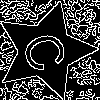C: (20, 25, 79, 75)
